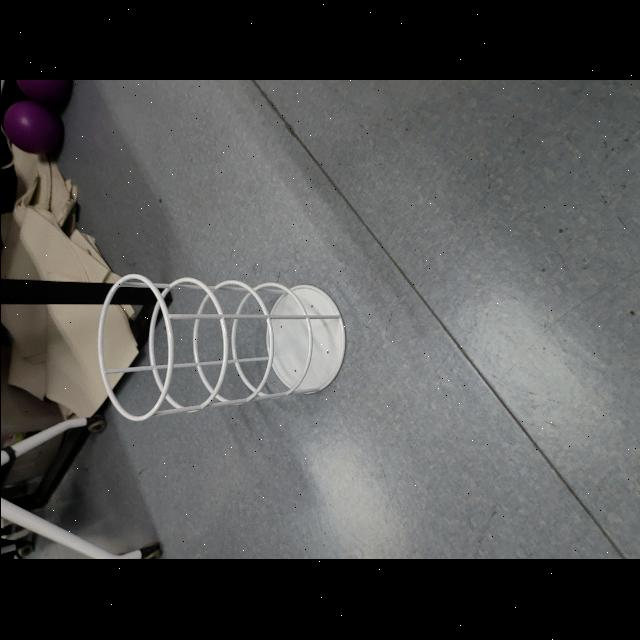S: (94, 267, 350, 425)
